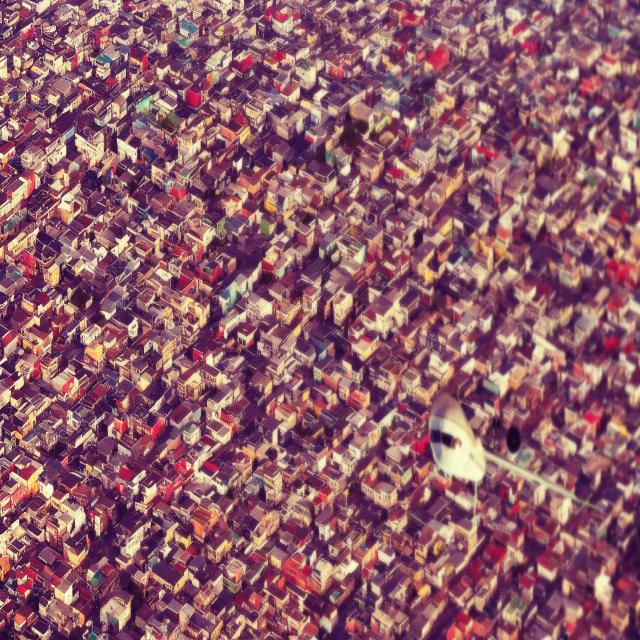airplane: (428, 394, 601, 523)
